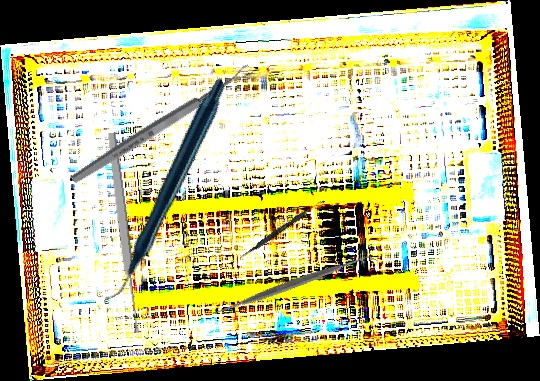Handpiece: (39, 78, 288, 301)
Spatula Surgical: (205, 198, 379, 372), (238, 196, 326, 262)
Surgical Spoon: (69, 63, 255, 186), (105, 132, 143, 334)
